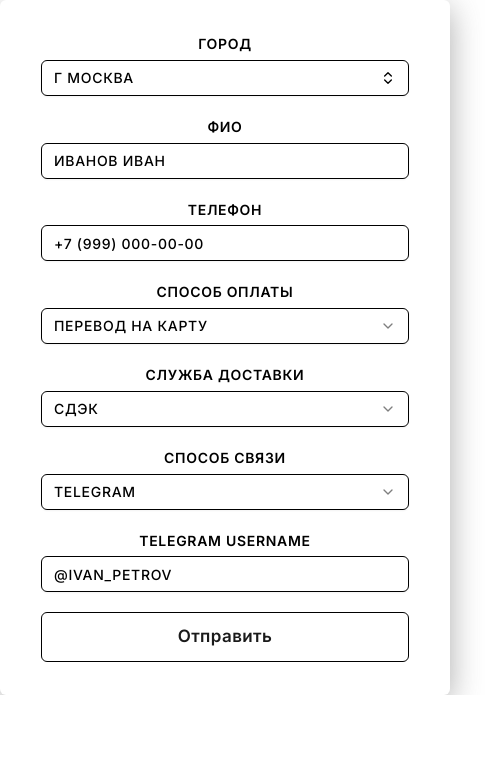
CheckoutFormContainer › при сетевой ошибке показывает понятное сообщение и «Повторить попытку»
Click the button "Отправить". click: coordinates (225, 637)
box: [41, 612, 409, 662]
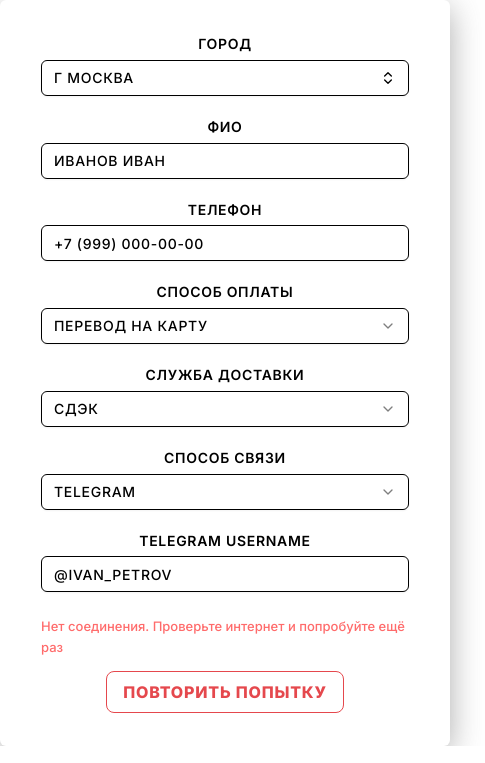
Expected: the message shows "Нет соединения. Проверьте интернет и попробуйте ещё раз", [41, 618, 405, 655]
Expected: the button "Повторить попытку" is enabled, [106, 670, 344, 712]
